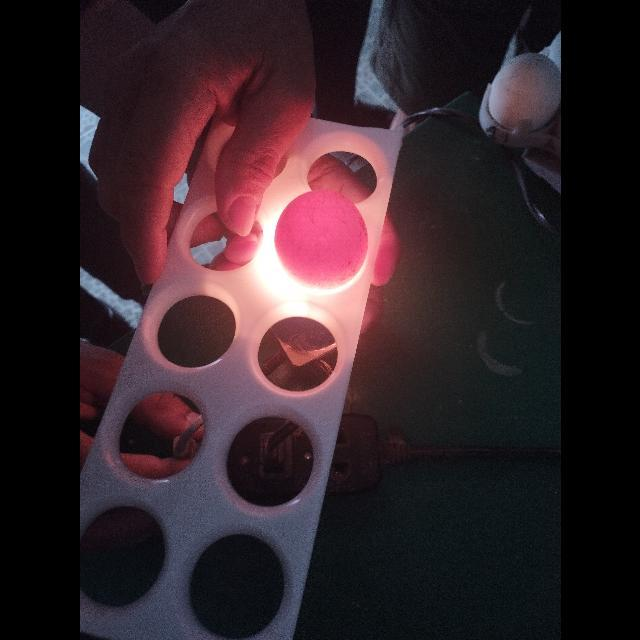Infertile: (278, 190, 364, 282)
